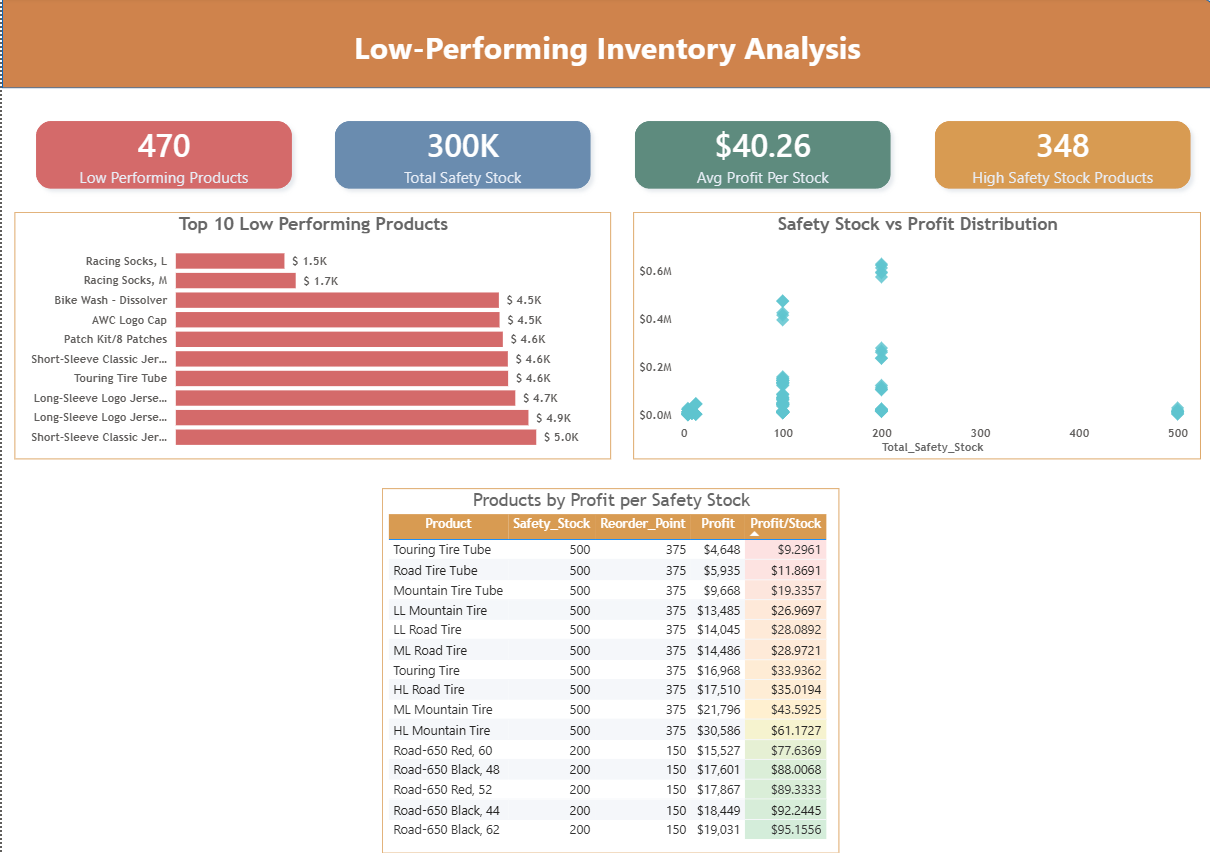

What the dashboard file says about the page in this screenshot:
{"tool":"powerbi","page":{"name":"Low-Performing Inventory Analysis","canvas":[1280,900],"ordinal":1},"visuals":[{"type":"shape","box":[0,0,1280.3,96.2],"z":0},{"type":"cardVisual","fields":{"Data":["Measure Table 2.Low Performing Products"]},"box":[11.2,106.2,317.3,119.9],"z":1000},{"type":"cardVisual","fields":{"Data":["Measure Table 2.Total Safety Stock"]},"box":[326.4,106.2,317.3,119.9],"z":2000},{"type":"cardVisual","fields":{"Data":["Measure Table 2.Avg Profit Per Stock"]},"box":[641.6,106.2,317.3,119.9],"z":3000},{"type":"cardVisual","fields":{"Data":["Measure Table 2.High Safety Stock Products"]},"box":[956.8,106.2,317.3,119.9],"z":4000},{"type":"clusteredBarChart","title":"Top 10 Low Performing Products","fields":{"Y":["Measure Table 1.Profit"],"Category":["DimProduct.EnglishProductName"]},"box":[12.5,226.1,627,259.8],"z":5000},{"type":"scatterChart","title":"Safety Stock vs Profit Distribution","fields":{"X":["Measure Table 2.Total Safety Stock"],"Y":["Measure Table 1.Profit"],"Category":["DimProduct.EnglishProductName"]},"box":[663.7,226.1,596.7,260.2],"z":6000},{"type":"tableEx","title":"Products by Profit per Safety Stock","fields":{"Values":["DimProduct.EnglishProductName","Sum(DimProduct.SafetyStockLevel)","Sum(DimProduct.ReorderPoint)","Measure Table 1.Profit","Measure Table 2.Profit_Per_Stock"]},"box":[399.5,516.5,481,383.8],"z":7000}]}

Visuals, with their boxes in screenshot pixels (x1, y1, x2, y2), scaled from the page's 1280x900 canvas onto the 1210x853 screenshot:
shape: 0/0/1209/91
cardVisual - Measure Table 2.Low Performing Products: 11/101/311/214
cardVisual - Measure Table 2.Total Safety Stock: 309/101/608/214
cardVisual - Measure Table 2.Avg Profit Per Stock: 607/101/906/214
cardVisual - Measure Table 2.High Safety Stock Products: 904/101/1204/214
"Top 10 Low Performing Products" clusteredBarChart: 12/214/605/461
"Safety Stock vs Profit Distribution" scatterChart: 627/214/1191/461
"Products by Profit per Safety Stock" tableEx: 378/490/832/852
